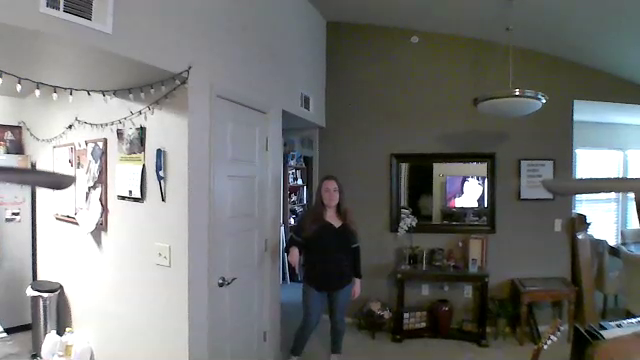down: (283, 243, 306, 278)
